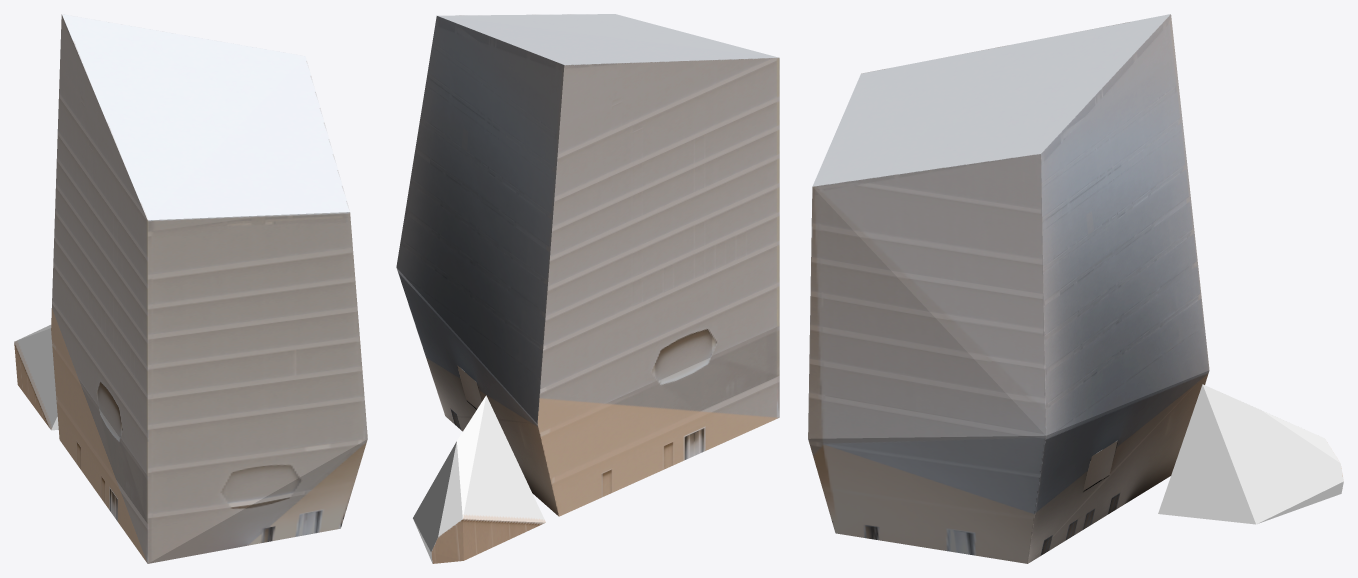
The picture shows the model from 3 angles, left to right: view 1: azimuth 30°, elevation 25°; view 2: azimuth 150°, elevation 25°; view 3: azimuth 270°, elevation 25°; orthographic projection. The views are drawn at different scales.
Visible parts, largest first — view 1: 210.A.001; view 2: 210.A.001; view 3: 210.A.001.
Part boxes in pixels (x1,y1,x2,y2): 210.A.001: [14, 14, 367, 563]; 210.A.001: [396, 14, 779, 563]; 210.A.001: [808, 14, 1343, 563].
Size of the model in its own units: 35.9 by 52.76 by 56.16.
1 material, 1 textured.
